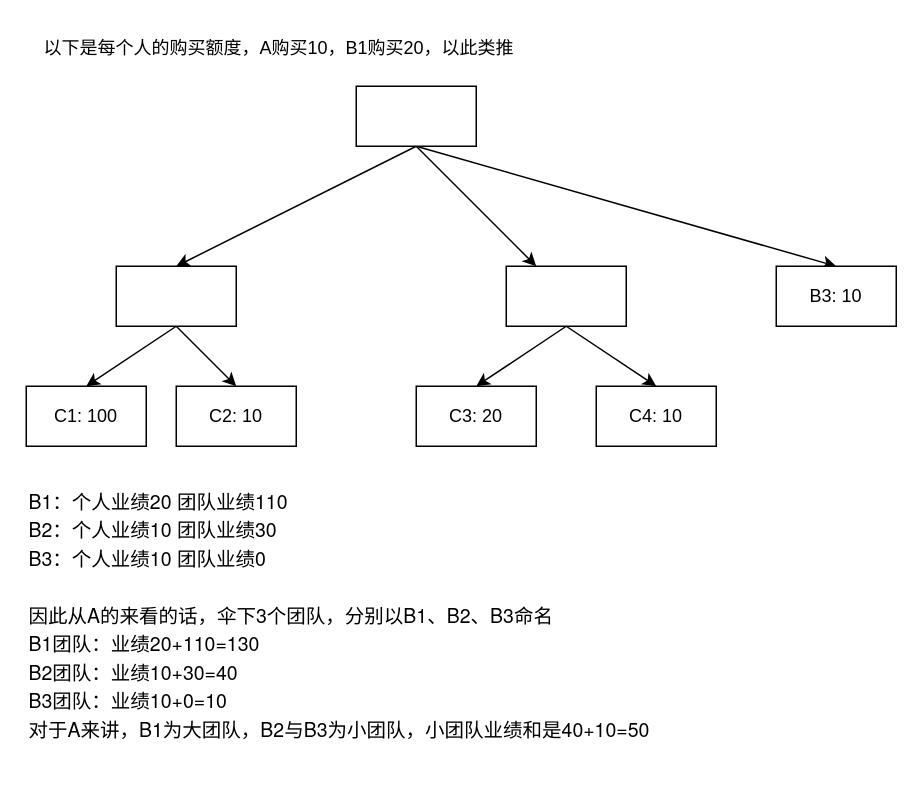
The diagram is 923 pixels wide and 786 high, and some of its shapes have lost their labels. Here are the shapes that lost their labels. From the top down, the centre of each, then its label:
At (415,115): "A: 10".
At (175,295): "B1: 20".
At (565,295): "B2: 10".
